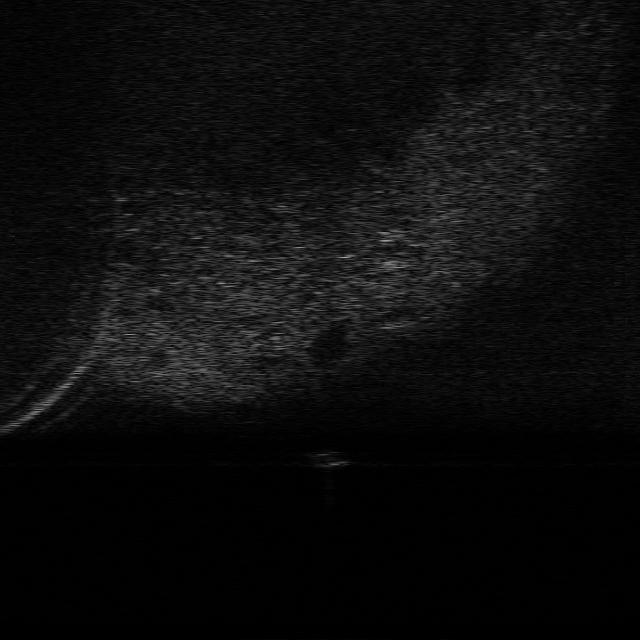cube: (308, 447, 354, 468)
